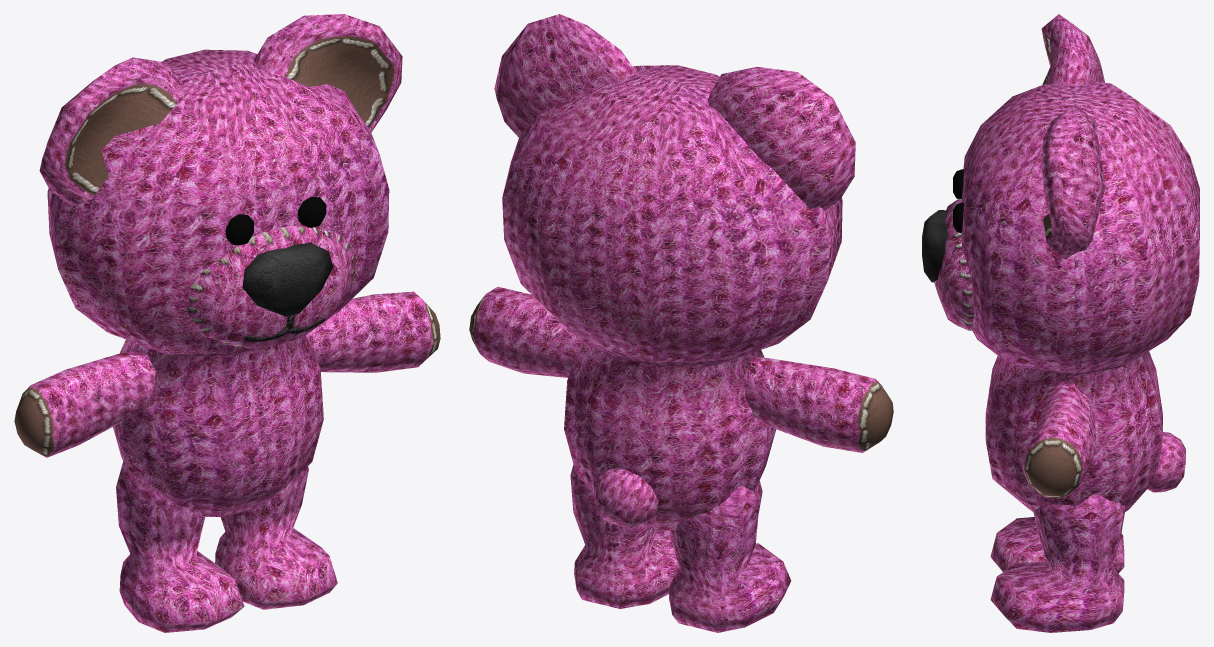
Rendered from Teddy.fbx.
The picture shows the model from 3 angles, left to right: view 1: azimuth 30°, elevation 25°; view 2: azimuth 150°, elevation 25°; view 3: azimuth 270°, elevation 25°; orthographic projection. The views are drawn at different scales.
Visible parts, largest first — view 1: teddy; view 2: teddy; view 3: teddy.
Boxes of the visible parts, bbox=[...] form: teddy: bbox=[14, 14, 440, 632]; teddy: bbox=[469, 14, 893, 632]; teddy: bbox=[922, 14, 1199, 632].
Bounding box in the file's own units: 1387 × 1786 × 857.
1 material, 1 textured.
